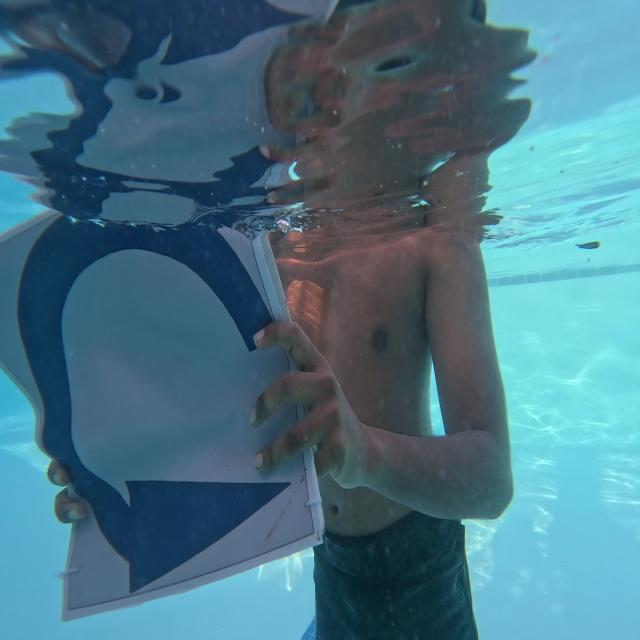blue_side: (0, 206, 331, 599)
